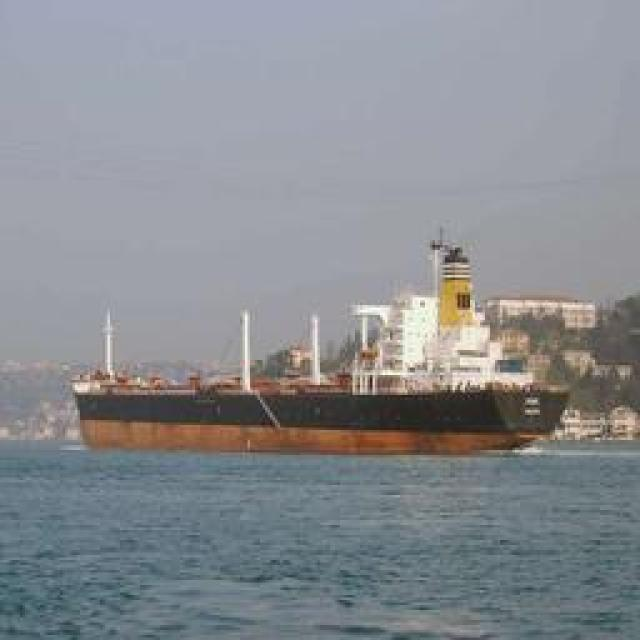CIV_Ship: (72, 314, 562, 452)
